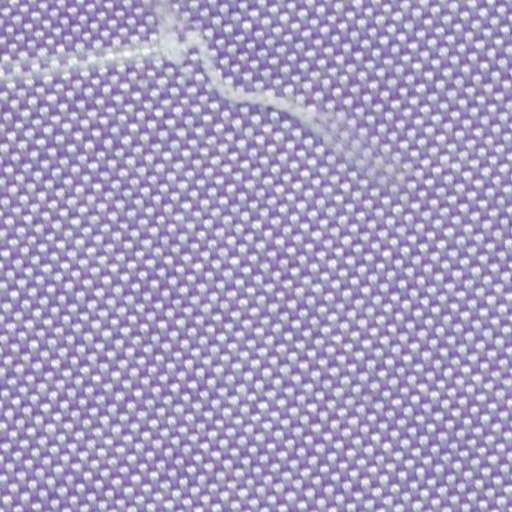DuanSha: (133, 8, 404, 190)
